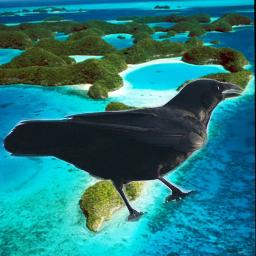Crow: (2, 78, 246, 222)
